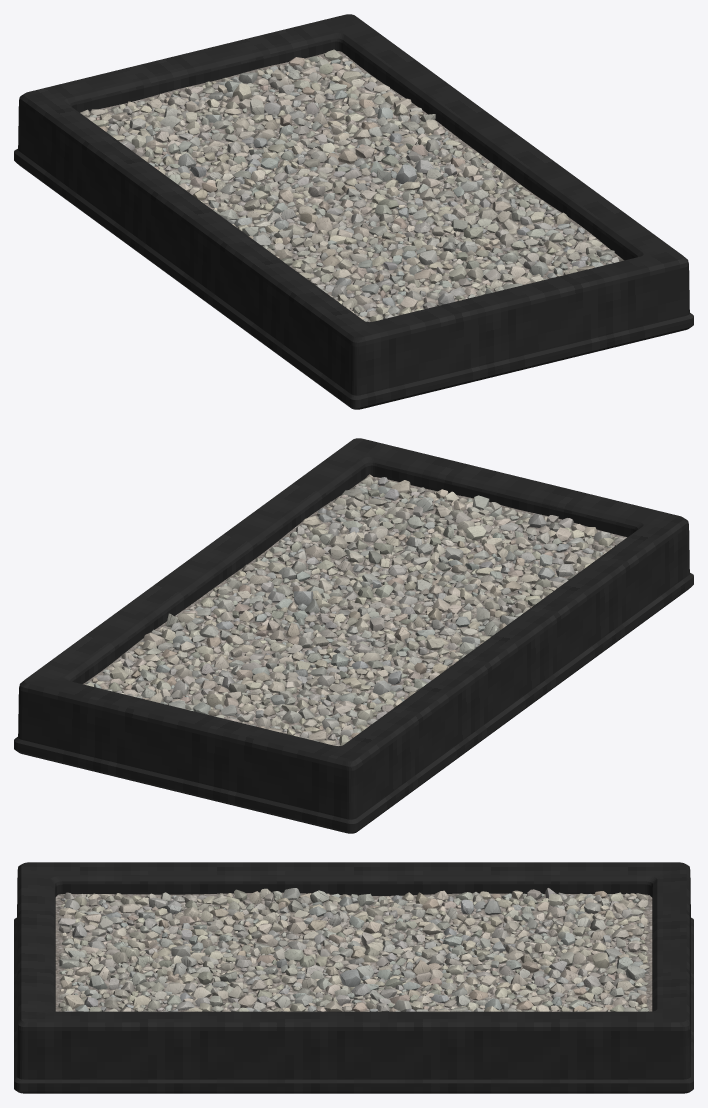
Rendered from flower-rect-marble-detail.glb.
3 views of the same model, one above another, from view 1: azimuth 30°, elevation 25°; view 2: azimuth 150°, elevation 25°; view 3: azimuth 270°, elevation 25° (orthographic).
Visible parts, largest first — view 1: SM_flower_rect_marble; view 2: SM_flower_rect_marble; view 3: SM_flower_rect_marble.
Part boxes in pixels (bbox=[...]): SM_flower_rect_marble: bbox=[14, 14, 693, 409]; SM_flower_rect_marble: bbox=[14, 438, 693, 833]; SM_flower_rect_marble: bbox=[14, 862, 693, 1093].
Bounding box in the file's own units: 0.66 × 0.128 × 1.14.
4 materials, 4 textured.
